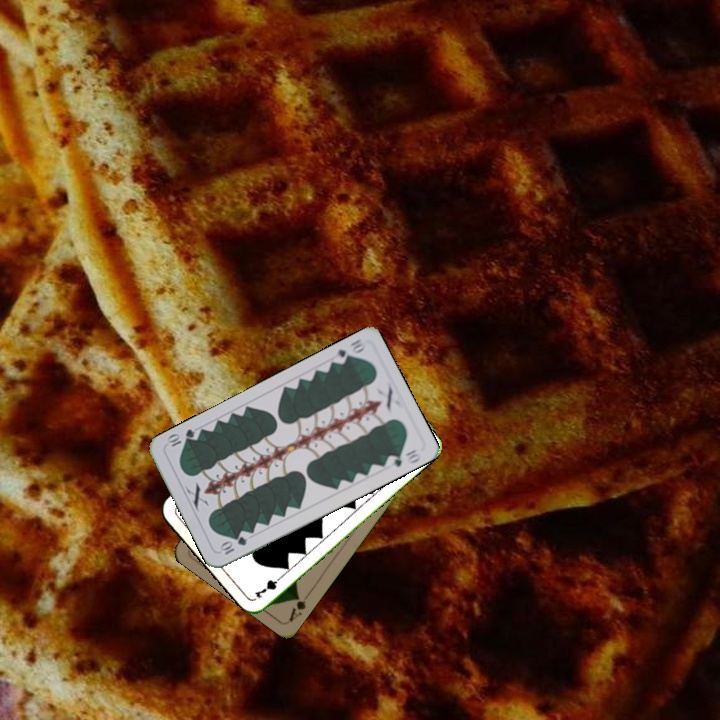G10: (332, 335, 369, 367), (216, 532, 249, 557)
G7: (250, 570, 286, 601)
GA: (285, 588, 313, 624)
